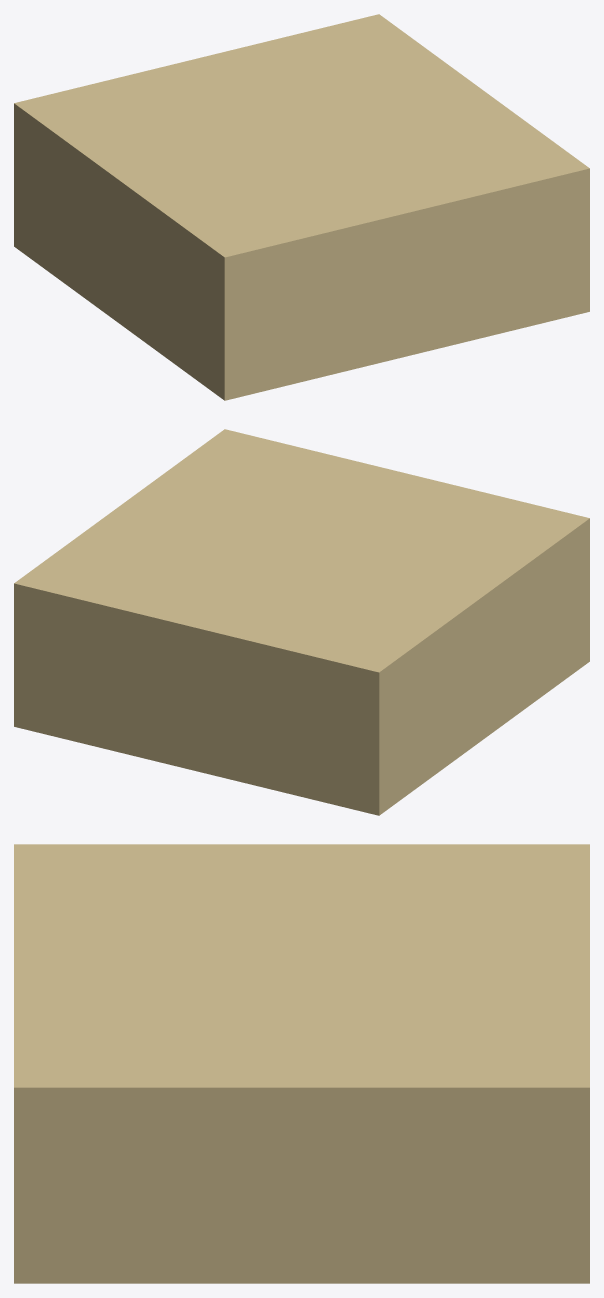
Rendered from D02_tile_sand.obj.
3 views of the same model, one above another, from view 1: azimuth 30°, elevation 25°; view 2: azimuth 150°, elevation 25°; view 3: azimuth 270°, elevation 25° (orthographic). The views are drawn at different scales.
Parts seen in each view (by area): view 1: D02_tile_sand; view 2: D02_tile_sand; view 3: D02_tile_sand.
Part boxes in pixels (x1,y1,x2,y2): D02_tile_sand: (14,14,589,400); D02_tile_sand: (14,429,589,815); D02_tile_sand: (14,844,589,1283).
Bounding box in the file's own units: 2 × 0.75 × 2.
